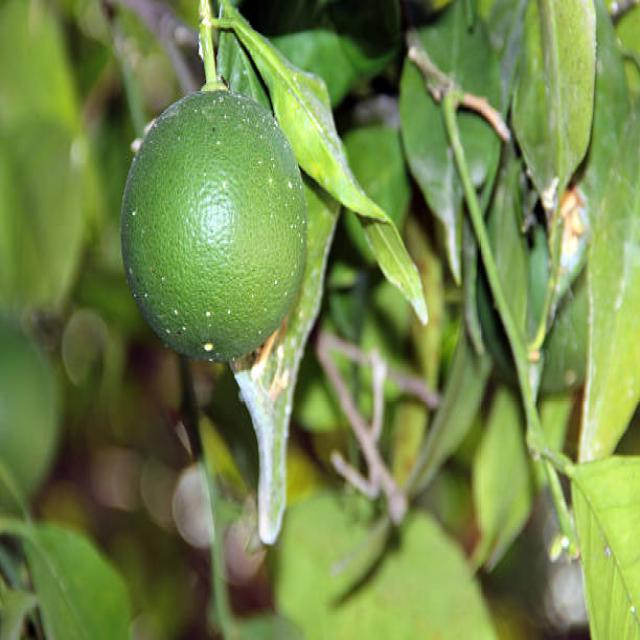Unripe: (120, 86, 308, 367)
